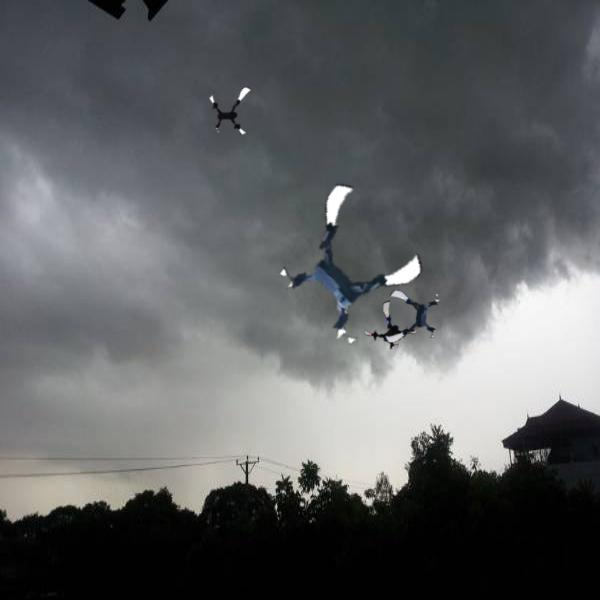drone: (277, 197, 417, 337), (384, 288, 445, 349), (205, 82, 264, 141), (366, 297, 422, 353)
